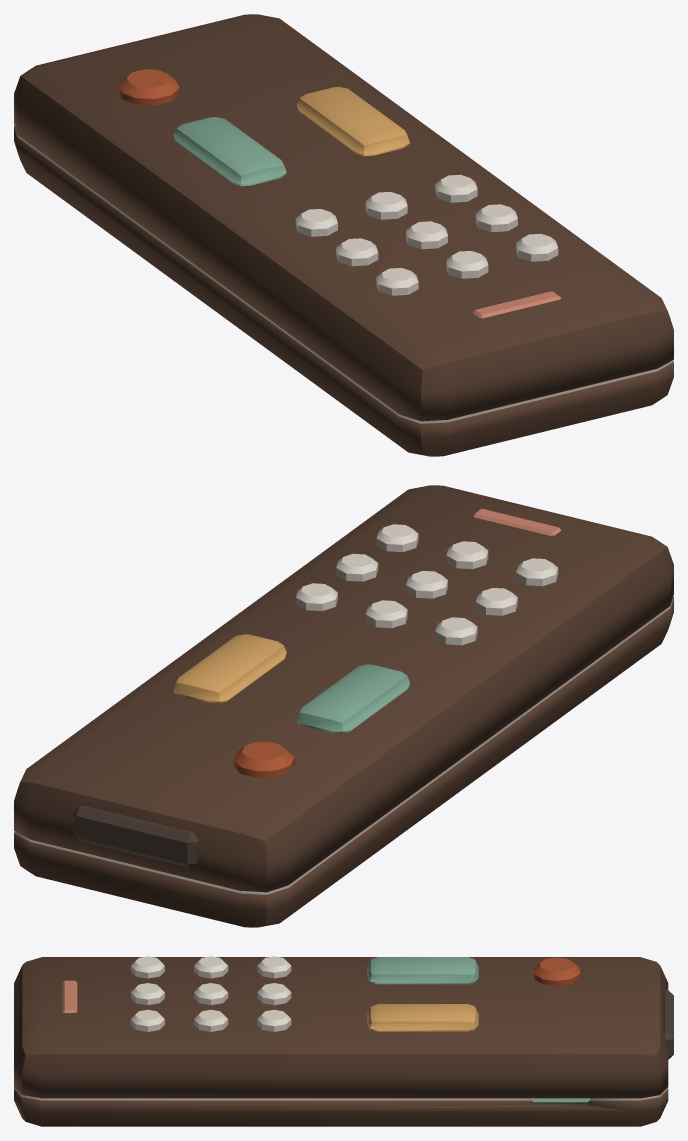
The model's file is telecomando.glb.
3 renders of one model, top to bottom at view 1: azimuth 30°, elevation 25°; view 2: azimuth 150°, elevation 25°; view 3: azimuth 270°, elevation 25°, orthographic. The views are drawn at different scales.
Visible parts, largest first — view 1: guscio, guscio_sotto, tasto_on; view 2: guscio, guscio_sotto, tasto_on; view 3: guscio, guscio_sotto, tasto_on.
Boxes of the visible parts, bbox=[...] form: guscio: bbox=[14, 14, 673, 421]; guscio_sotto: bbox=[14, 126, 673, 456]; tasto_on: bbox=[118, 69, 179, 105]; guscio: bbox=[14, 485, 673, 892]; guscio_sotto: bbox=[14, 597, 673, 927]; tasto_on: bbox=[233, 741, 294, 777]; guscio: bbox=[14, 956, 673, 1098]; guscio_sotto: bbox=[14, 1087, 668, 1126]; tasto_on: bbox=[534, 957, 579, 986].
Bounding box in the file's own units: 0.066 × 0.0295 × 0.1775.
